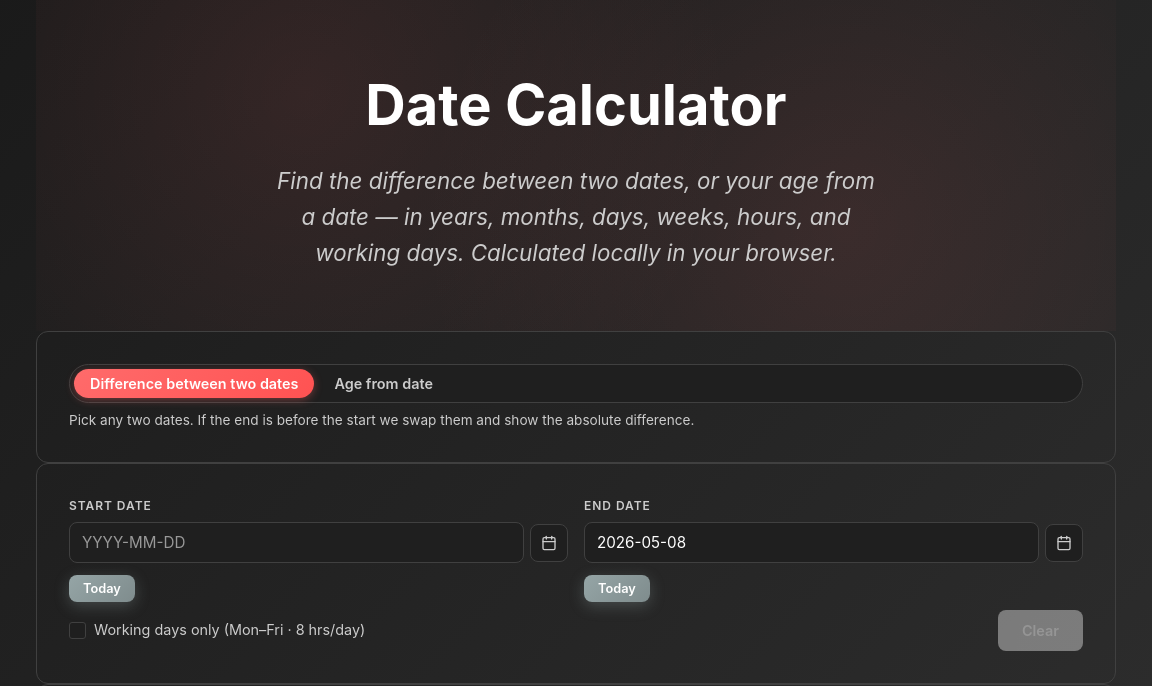
Test: <DateCalculator /> — difference computation › surfaces the swap note when end < start
This screenshot has width=1152, height=686.
Type "2024-06-01" into the field labelled "Start date" at (296, 542), box x1=69 y1=522 x2=524 y2=563
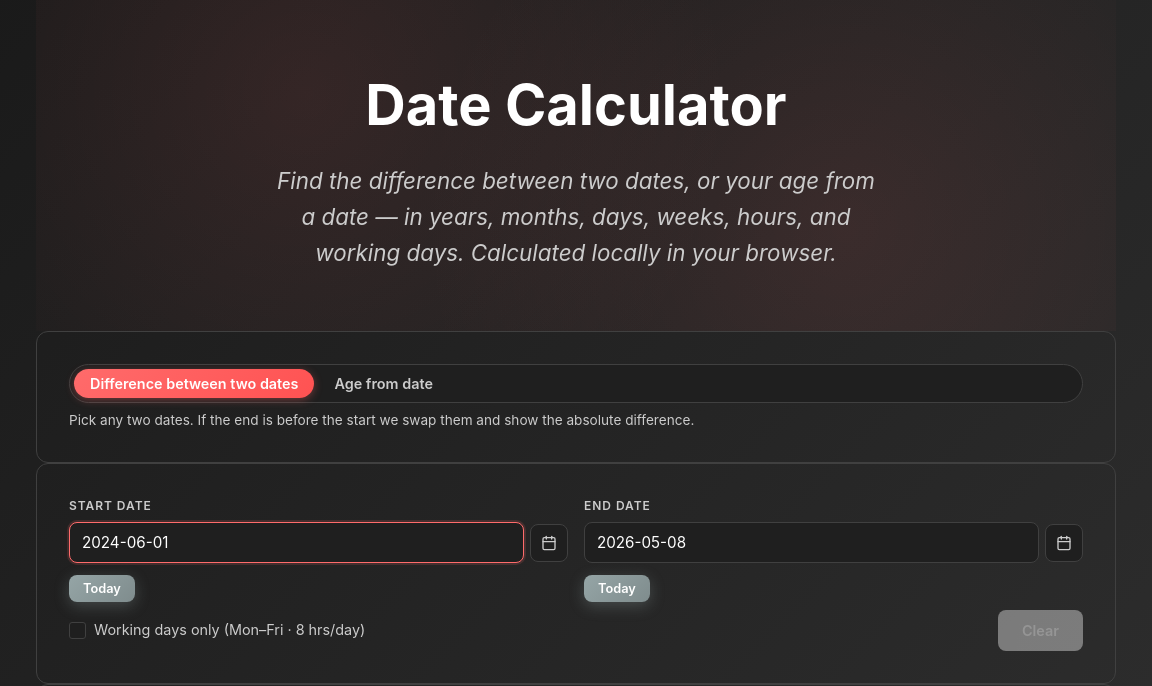
Press Tab
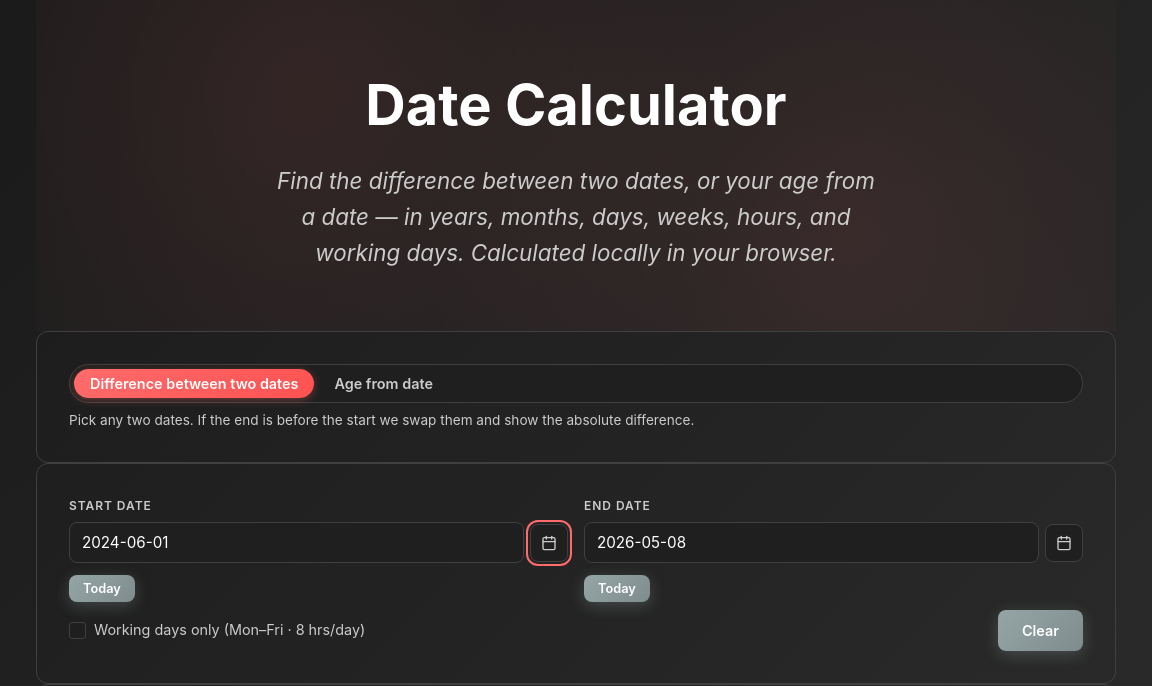
Replace the text in the field labelled "End date" with "2024-01-01" at (811, 542), box x1=584 y1=522 x2=1039 y2=563
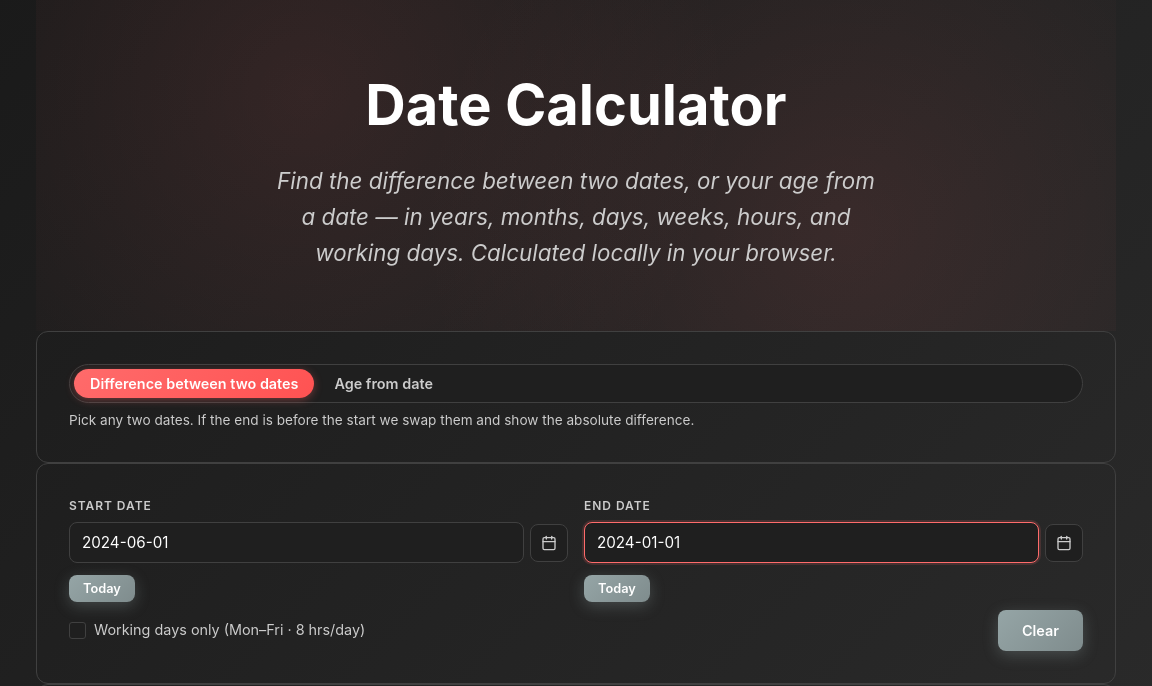
Press Tab
(page scrolled)
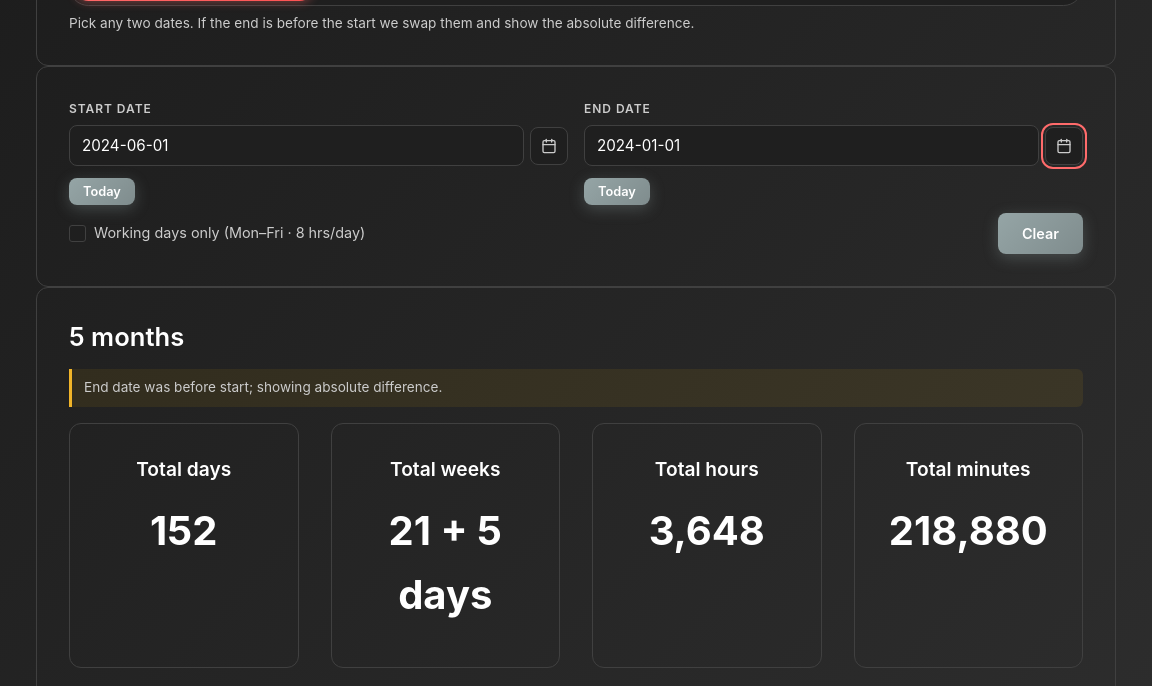
Check: the text "End date was before start; showing absolute difference." is shown, box x1=69 y1=369 x2=1083 y2=407
Check: the text "5 months" is shown, box x1=69 y1=321 x2=184 y2=352
